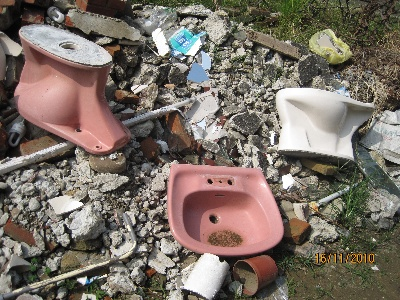bottle: (182, 253, 230, 300)
bowl: (166, 162, 286, 257), (233, 253, 280, 297)
plastic_bag: (308, 27, 353, 66)
toilet: (13, 23, 133, 156), (274, 86, 376, 164)
